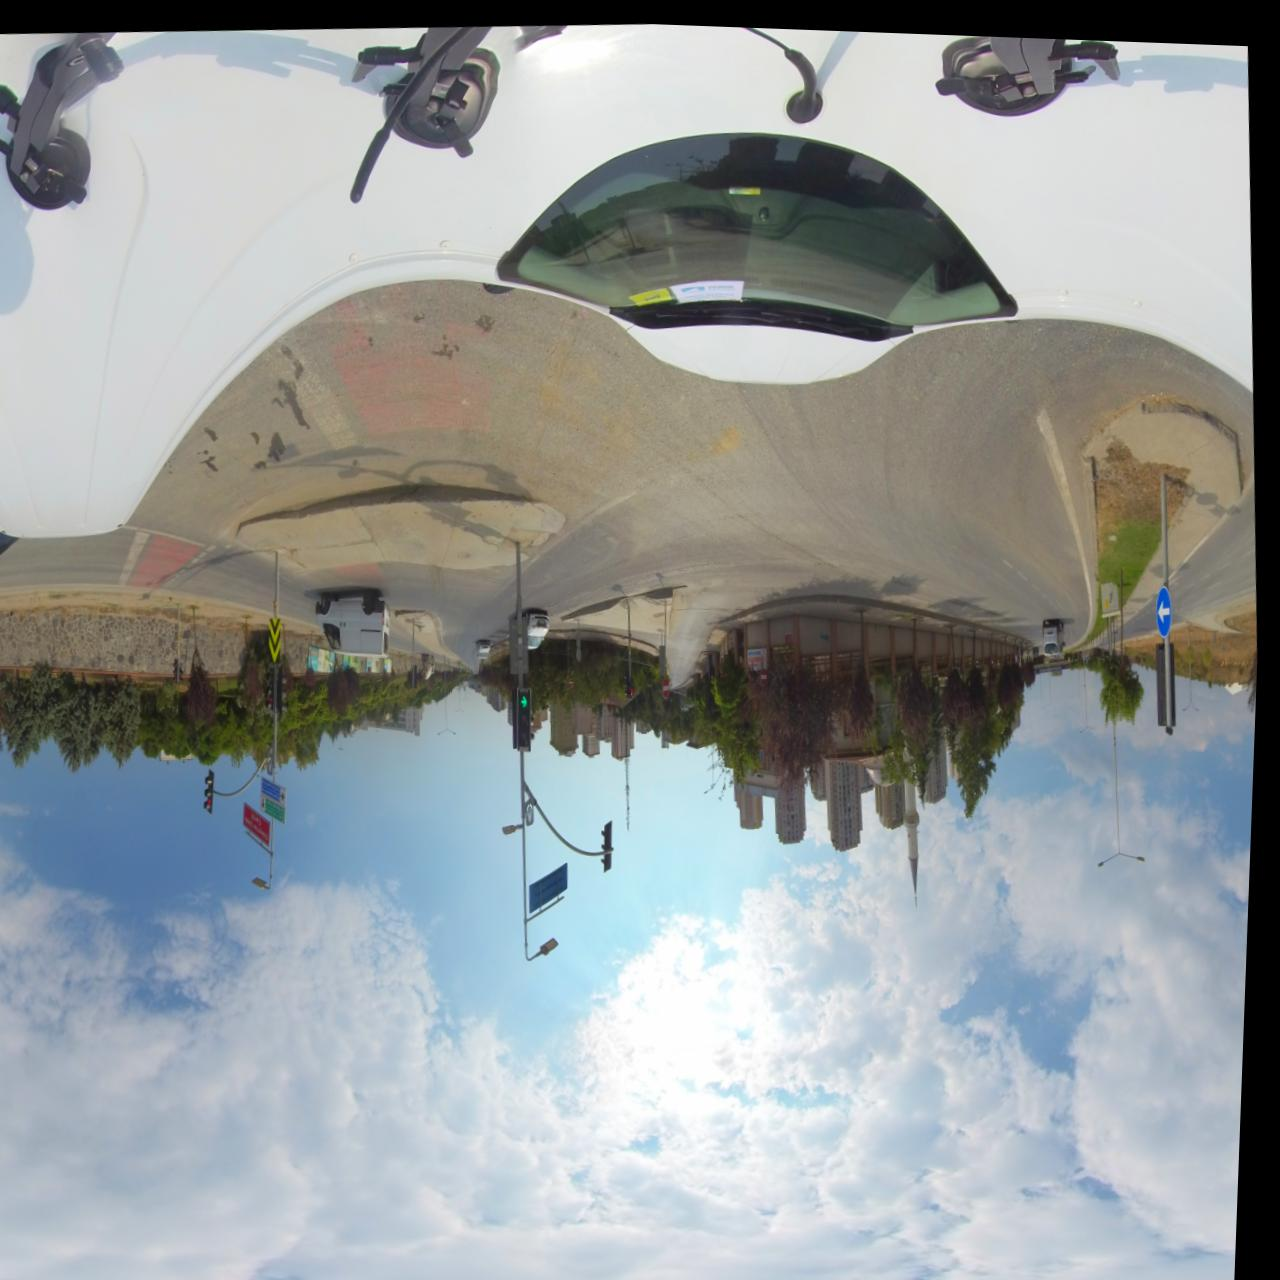SignStore: (750, 640, 767, 663)
